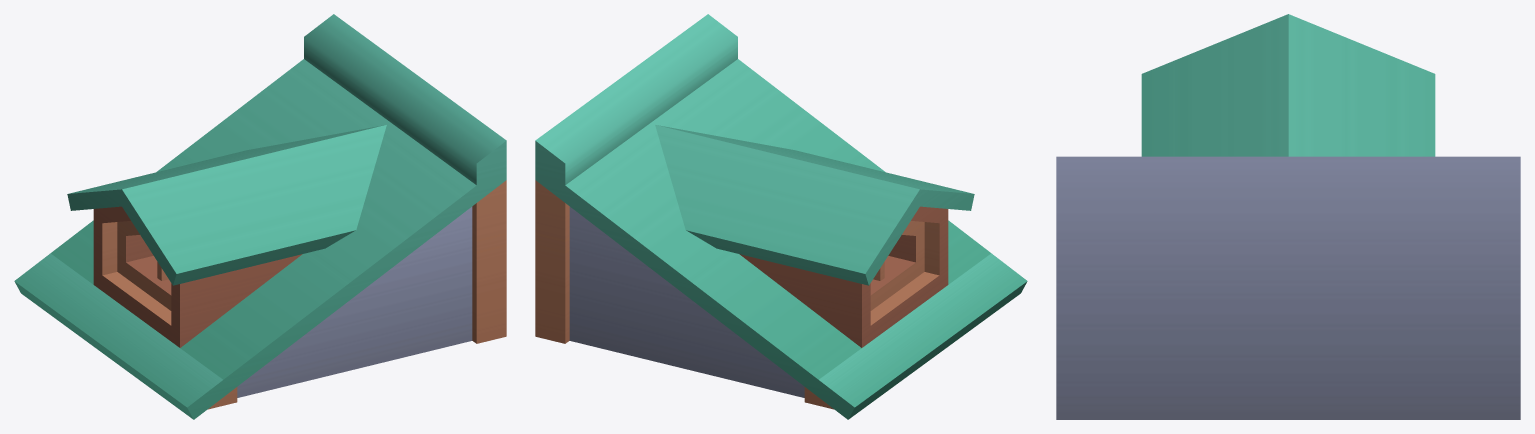
File: roof-window.fbx
The picture shows the model from 3 angles, left to right: view 1: azimuth 30°, elevation 25°; view 2: azimuth 150°, elevation 25°; view 3: azimuth 270°, elevation 25°; orthographic projection. The views are drawn at different scales.
Parts seen in each view (by area): view 1: roof-window; view 2: roof-window; view 3: roof-window.
Part boxes in pixels (x1,y1,x2,y2): roof-window: (14,14,506,419); roof-window: (535,14,1027,419); roof-window: (1056,14,1520,419).
Bounding box in the file's own units: 107 × 64.83 × 100.
1 material, 1 textured.
